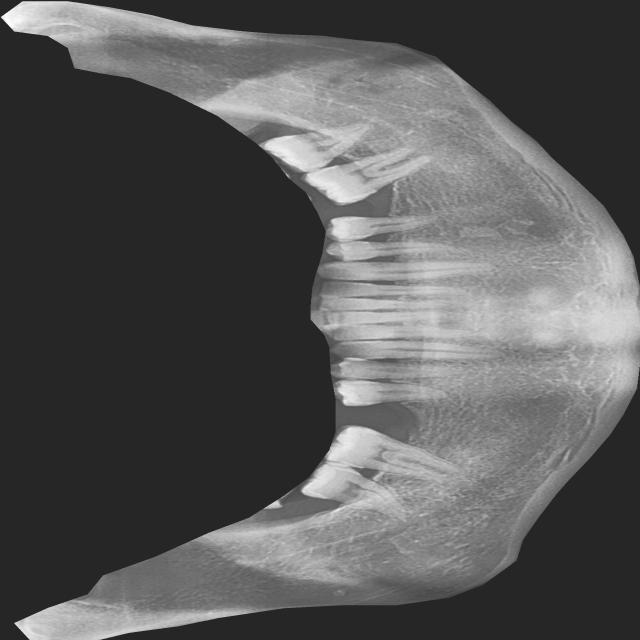mandibula: (1, 0, 640, 640)
